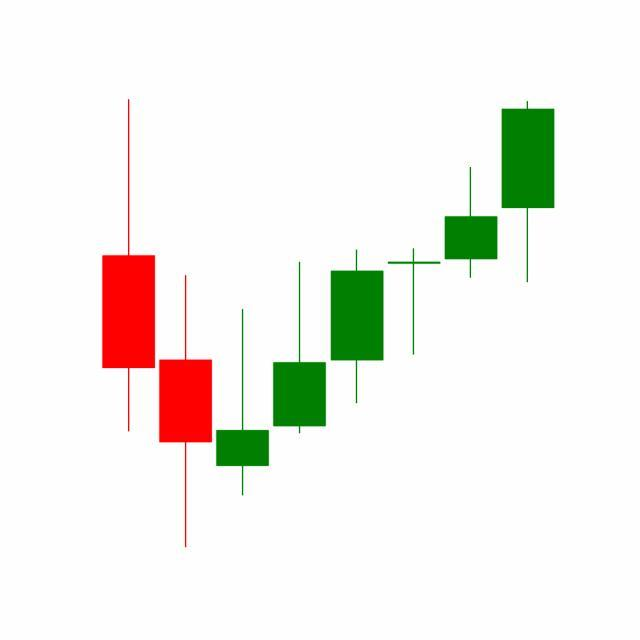Up-Down Gap Side-by-side White Lines: (328, 164, 500, 407)
